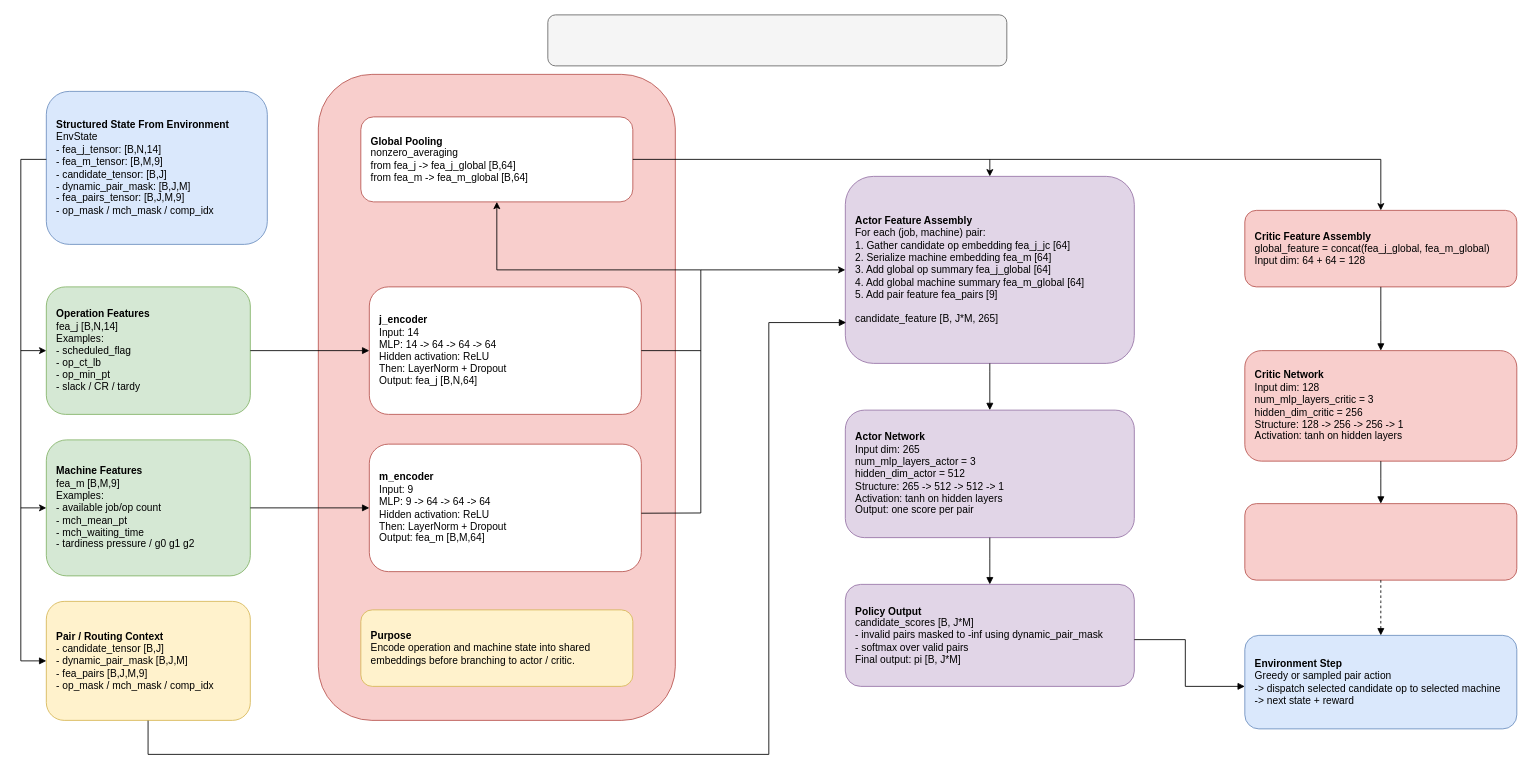
This 1532x776 diagram has some shape labels left out. The shapes that lost their labels are listed below. From the top down, each one's box as (x1, y1, x2, y2) in pixels, then its label:
(547, 14, 1007, 66): Low Level Agent - PPO Network Architecture
(1244, 503, 1517, 580): Value Output v [B,1] State value for PPO advantage / value target computation
